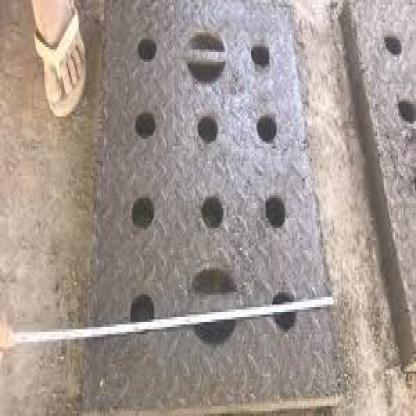open drainage-not overflowing-: (97, 0, 354, 406), (354, 6, 416, 354)
